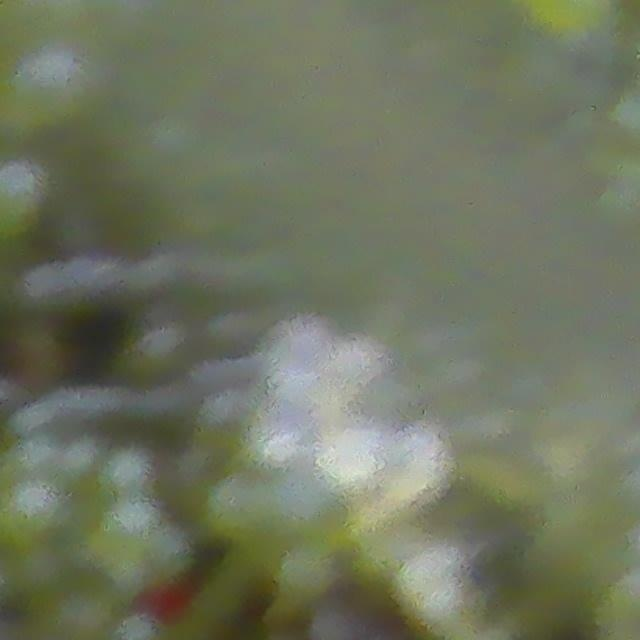SeaGrape: (254, 317, 330, 383), (317, 417, 382, 484), (248, 403, 316, 465), (383, 428, 447, 492), (325, 331, 380, 392)
